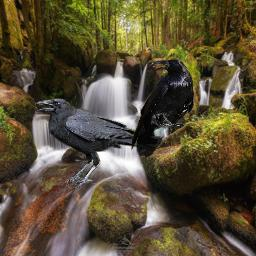Crow: (36, 98, 158, 188), (131, 59, 195, 158)
